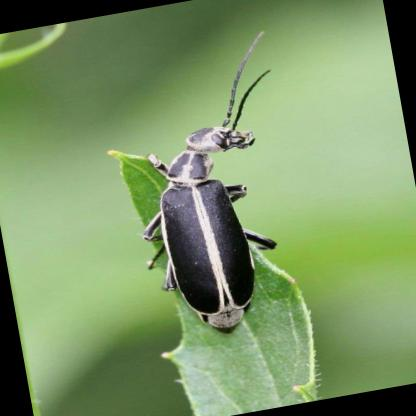blister beetle: (140, 31, 275, 335)
